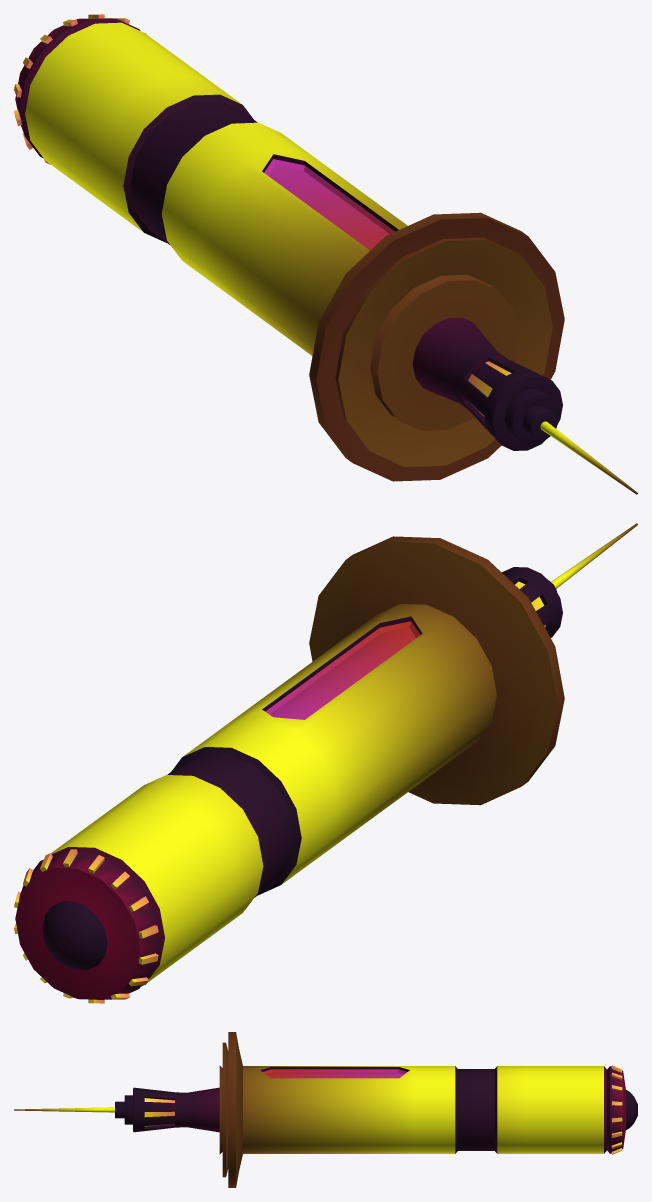
File: Scifi Syringe Adrenaline.fbx
3 views of the same model, one above another, from view 1: azimuth 30°, elevation 25°; view 2: azimuth 150°, elevation 25°; view 3: azimuth 270°, elevation 25° (orthographic). The views are drawn at different scales.
Parts seen in each view (by area): view 1: Cylinder.002; view 2: Cylinder.002; view 3: Cylinder.002.
Part boxes in pixels (x1,y1,x2,y2): Cylinder.002: (14,14,637,494); Cylinder.002: (14,523,637,1003); Cylinder.002: (14,1032,637,1187).
Size of the model in its own units: 355 by 355 by 1419.
1 material, 1 textured.
